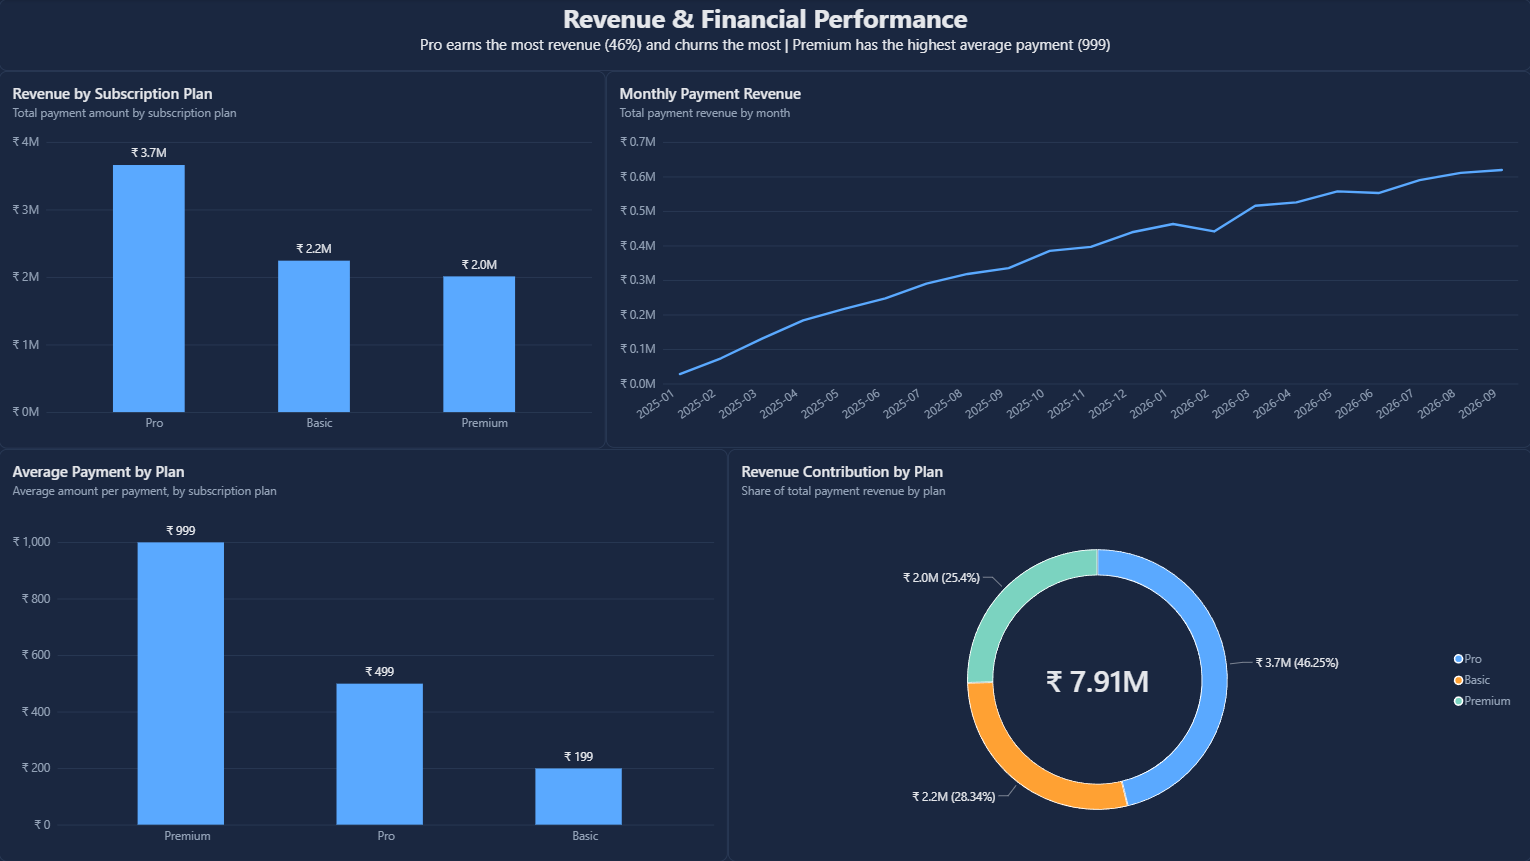

The page's visual inventory and layout, read from the dashboard file:
{"tool":"powerbi","page":{"name":"Revenue & Financial Performance","canvas":[1920,1080],"ordinal":3},"visuals":[{"type":"clusteredColumnChart","title":"Revenue by Subscription Plan","fields":{"Category":["subscriptions_clean.plan"],"Y":["Sum(payments_clean.amount)"]},"box":[0,90,760,473.3],"z":0},{"type":"clusteredColumnChart","title":"Average Payment by Plan","fields":{"Category":["subscriptions_clean.plan"],"Y":["payments_clean.Average Payment"]},"box":[0,563.3,913.3,516.7],"z":1000},{"type":"lineChart","title":"Monthly Payment Revenue","fields":{"Category":["DateTable.Year-Month"],"Y":["payments_clean.Payment Revenue"]},"box":[760,90,1160,471.7],"z":2000},{"type":"donutChart","title":"Revenue Contribution by Plan","fields":{"Category":["subscriptions_clean.plan"],"Y":["Sum(payments_clean.amount)"]},"box":[913.3,563.3,1006.7,516.7],"z":3000},{"type":"textbox","box":[0,0,1920,90],"z":3001}]}

Visuals, with their boxes in screenshot pixels (x1, y1, x2, y2), scaled from the page's 1920x1080 canvas onto the 1530x861 screenshot:
"Revenue by Subscription Plan" clusteredColumnChart: (left=0, top=72, right=606, bottom=449)
"Average Payment by Plan" clusteredColumnChart: (left=0, top=449, right=728, bottom=860)
"Monthly Payment Revenue" lineChart: (left=606, top=72, right=1529, bottom=448)
"Revenue Contribution by Plan" donutChart: (left=728, top=449, right=1529, bottom=860)
textbox: (left=0, top=0, right=1529, bottom=72)
